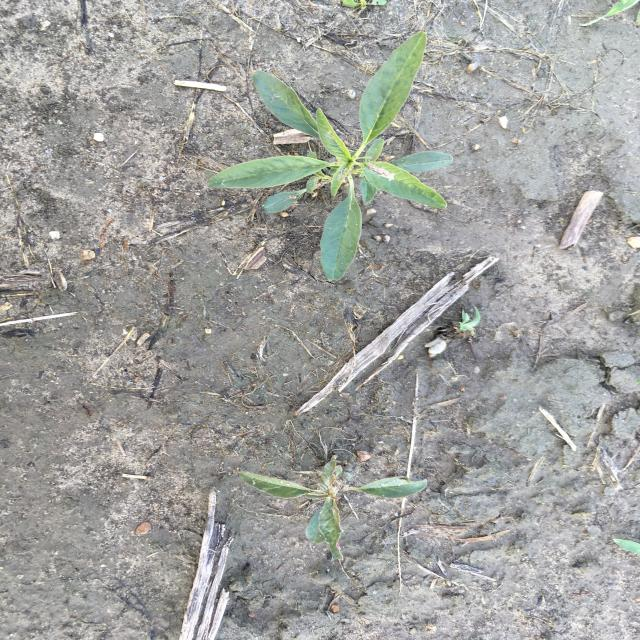Waterhemp: (202, 30, 455, 284), (237, 459, 428, 562)
